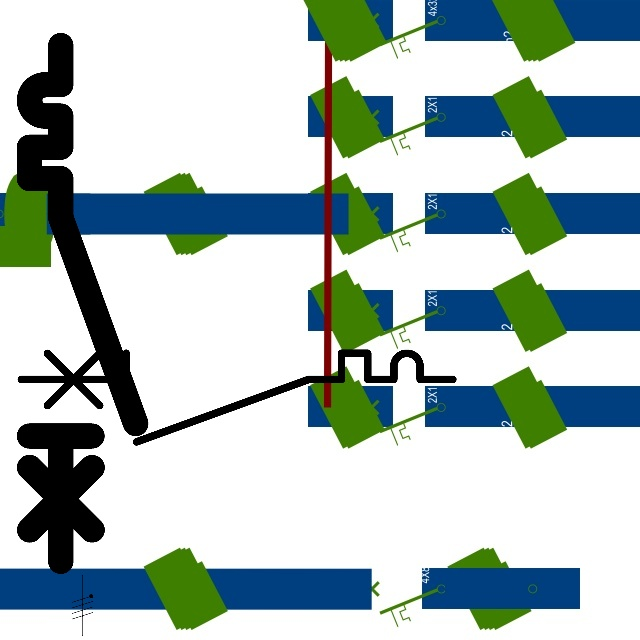interruptor_termomagnetico: (16, 32, 149, 574), (10, 342, 464, 453)
